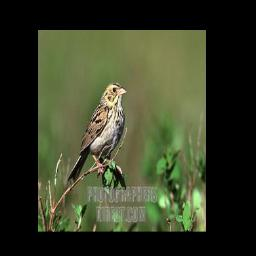Sparrow: (66, 80, 127, 190)
